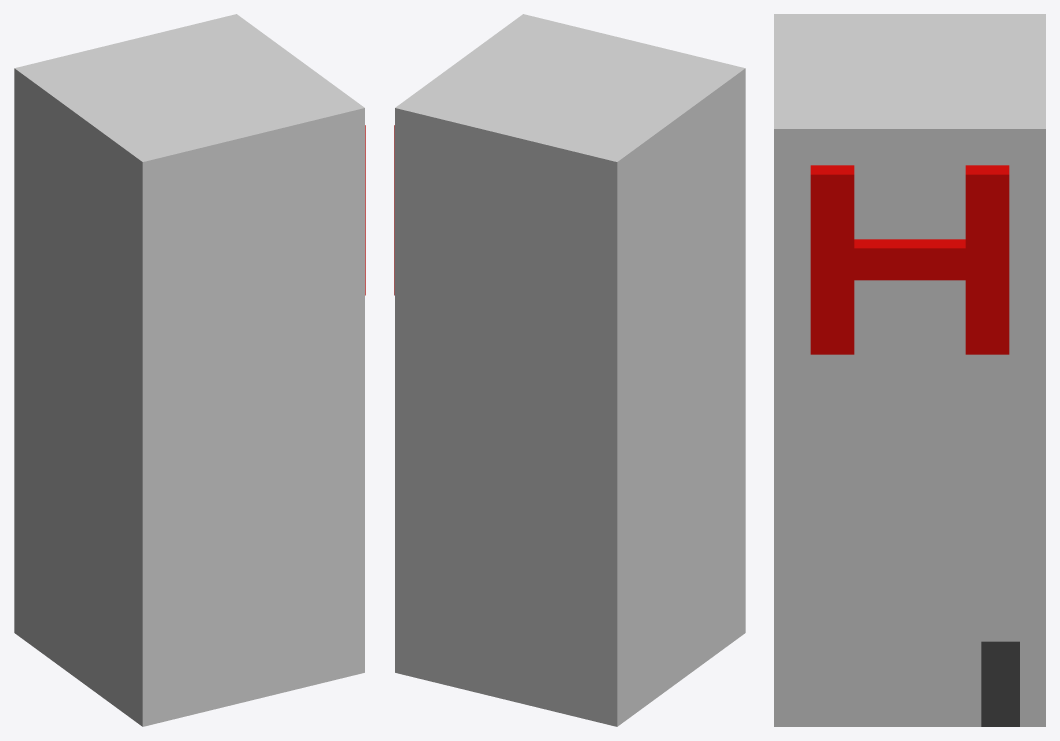
3 views of the same model, side by side, from view 1: azimuth 30°, elevation 25°; view 2: azimuth 150°, elevation 25°; view 3: azimuth 270°, elevation 25° (orthographic). The views are drawn at different scales.
Parts seen in each view (by area): view 1: Cube; view 2: Cube; view 3: Cube.
Boxes of the visible parts, box(x1,y1,x2,y2) form: Cube: box(14, 14, 365, 726); Cube: box(394, 14, 745, 726); Cube: box(774, 14, 1045, 726).
Bounding box in the file's own units: 216 × 486 × 200.
